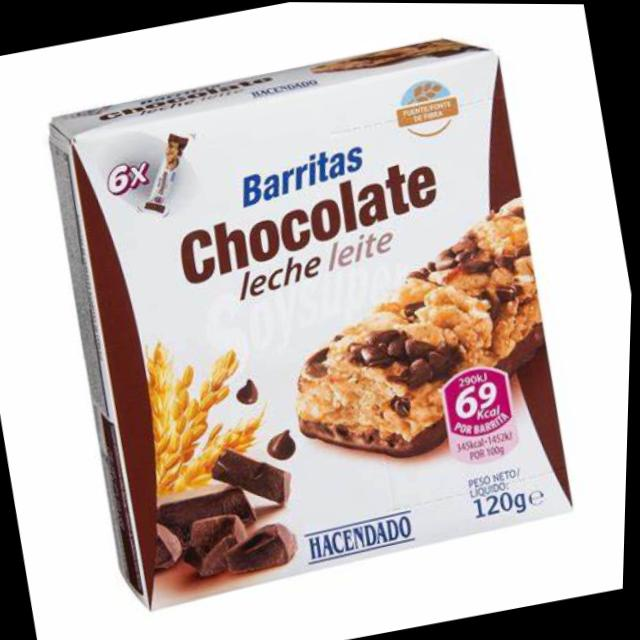Caja: (14, 12, 602, 623)
